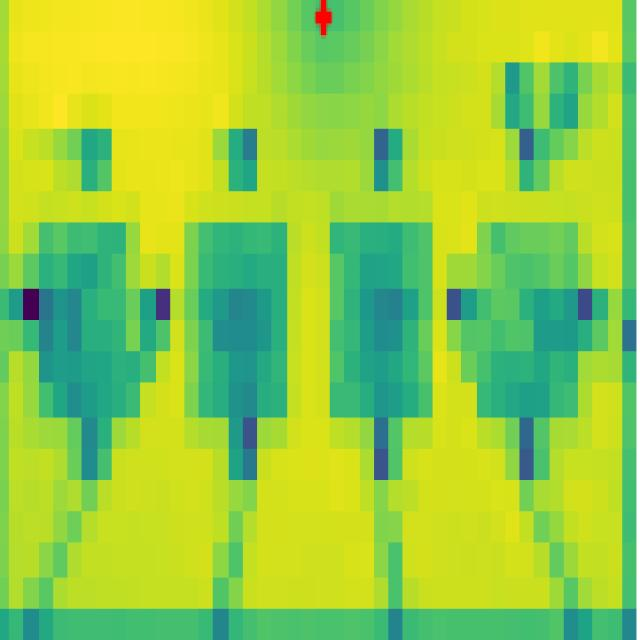Concrete: (476, 223, 578, 419)
Glass: (330, 221, 434, 418)
Metal: (39, 218, 143, 432)
Wood: (183, 222, 292, 419)
